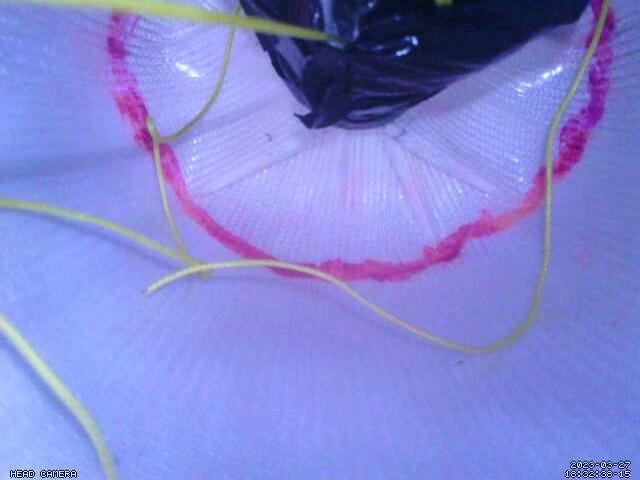head: (106, 0, 617, 283)
